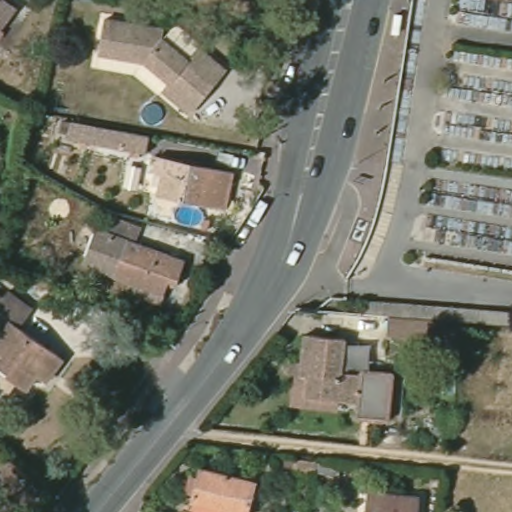pool: (135, 98, 168, 129), (170, 202, 205, 225)
